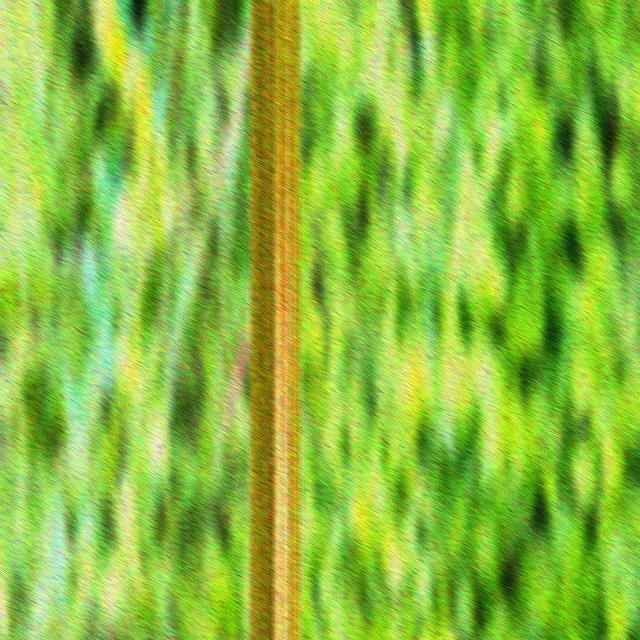BLS: (272, 3, 290, 640), (291, 180, 295, 640)
